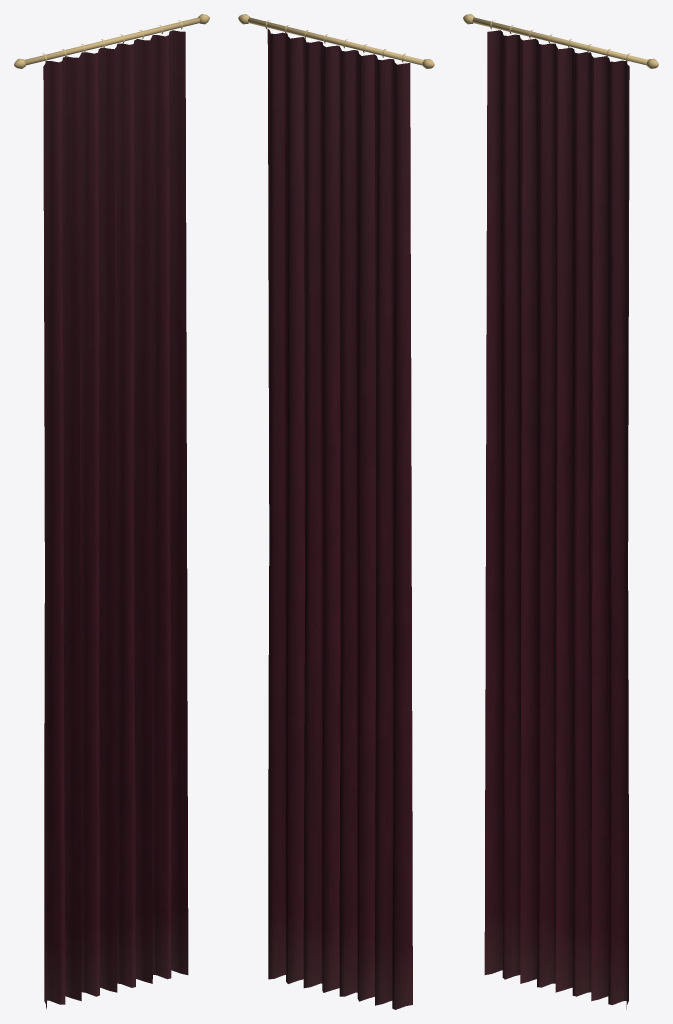
The model's file is study_curtain.glb.
The picture shows the model from 3 angles, left to right: view 1: azimuth 30°, elevation 25°; view 2: azimuth 150°, elevation 25°; view 3: azimuth 330°, elevation 25°; orthographic projection.
Visible parts, largest first — view 1: Strip_0, Strip_3, Strip_2, Strip_1, Curtain_Rod; view 2: Strip_0, Strip_2, Strip_3, Strip_1, Curtain_Rod; view 3: Strip_3, Strip_1, Strip_0, Strip_2, Curtain_Rod.
Part boxes in pixels (<box>): Strip_0: <box>43,56,81,1009</box>; Strip_3: <box>150,30,188,979</box>; Strip_2: <box>114,39,152,987</box>; Strip_1: <box>79,47,117,996</box>; Curtain_Rod: <box>14,14,209,68</box>; Strip_0: <box>374,54,412,1009</box>; Strip_2: <box>303,37,340,992</box>; Strip_3: <box>267,28,304,983</box>; Strip_1: <box>339,46,375,1001</box>; Curtain_Rod: <box>238,14,434,68</box>; Strip_3: <box>591,56,629,1009</box>; Strip_1: <box>520,38,558,987</box>; Strip_0: <box>484,30,522,979</box>; Strip_2: <box>555,47,593,996</box>; Curtain_Rod: <box>463,14,658,68</box>.
Size of the model in its own units: 1.24 by 5.76 by 0.1148.
Materials: 2 (1 with a texture image).
